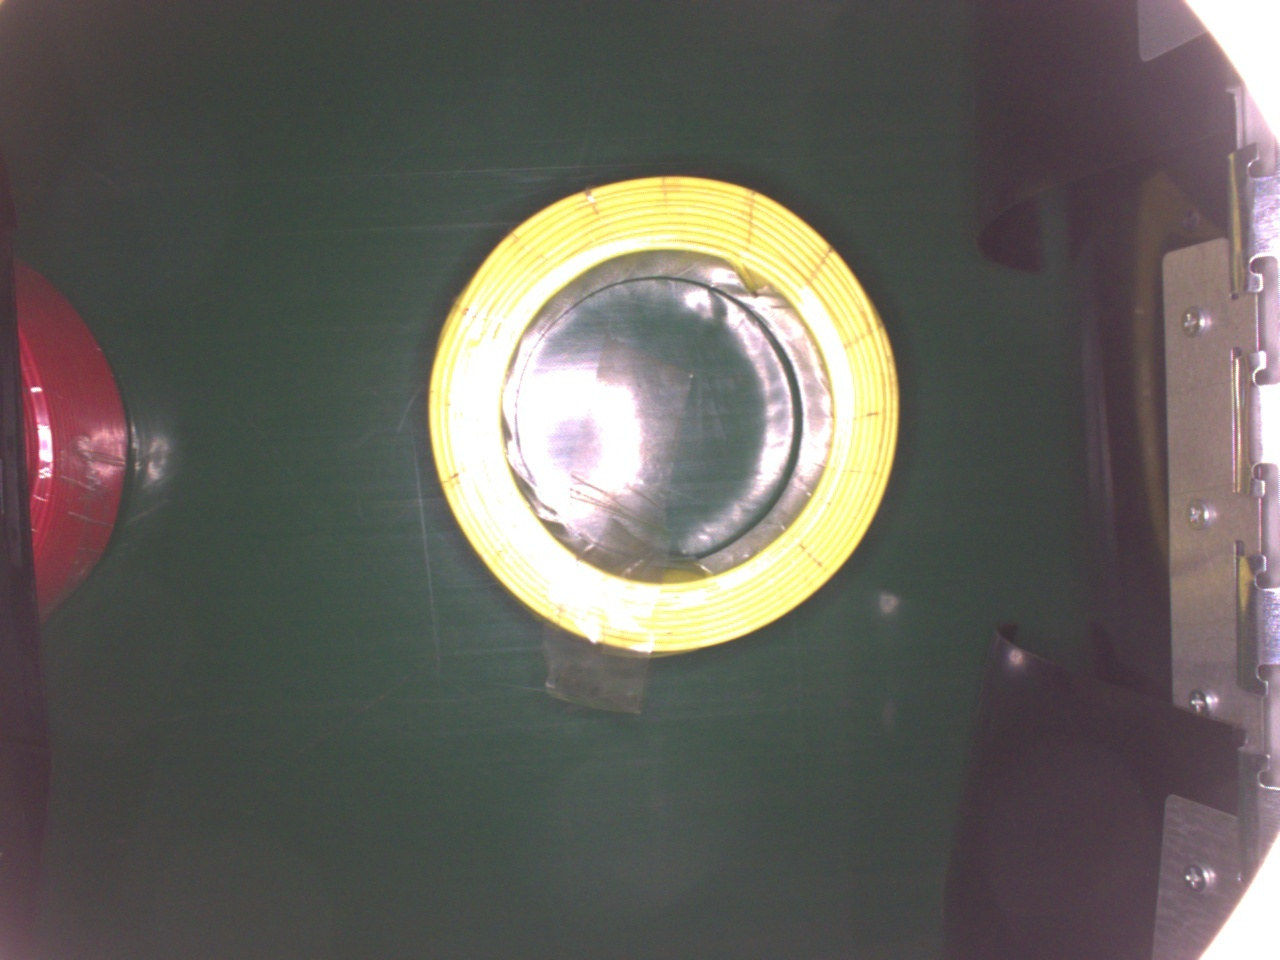yellow: (415, 170, 906, 661)
